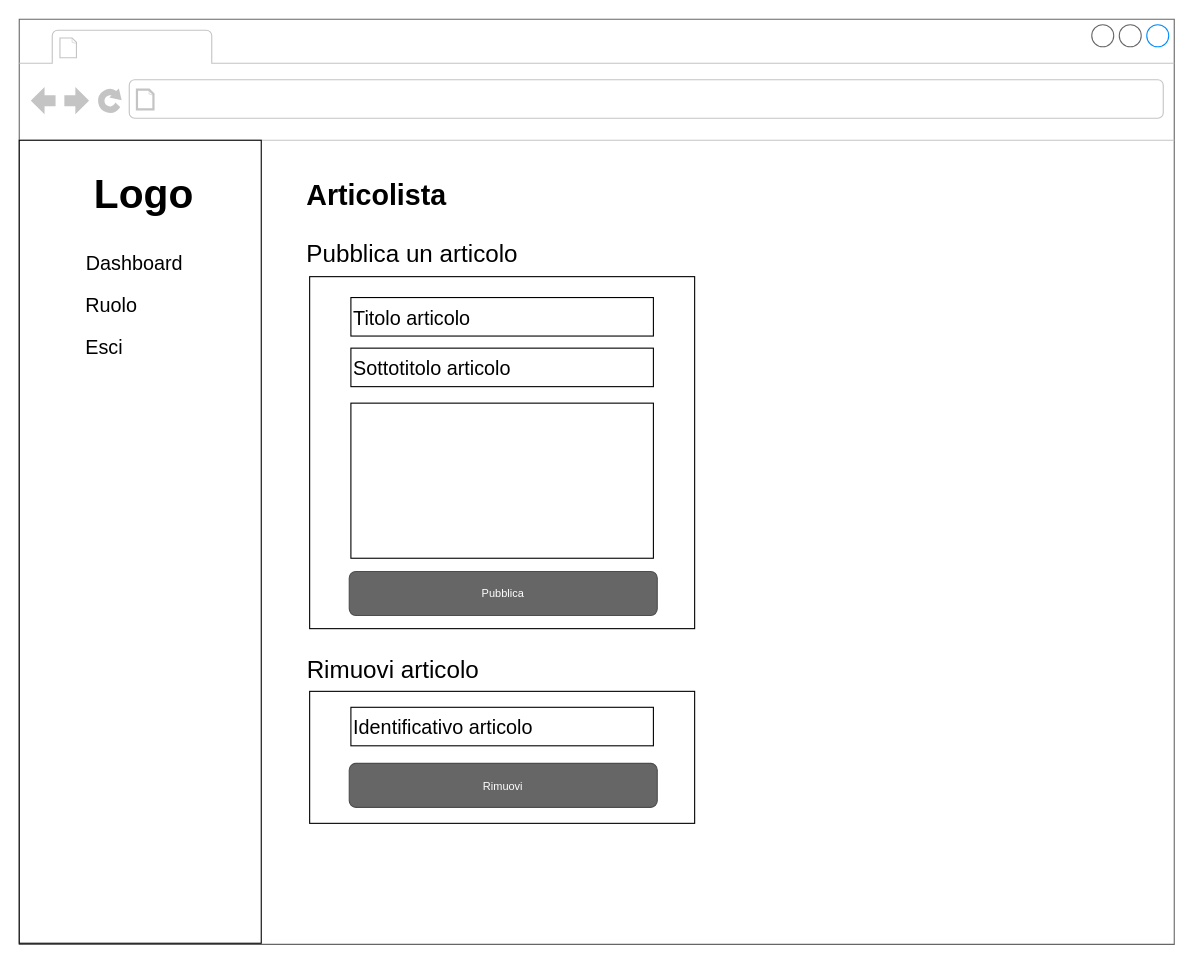
Some shapes in this 1194 by 964 pixel diagram are drawn without their labels. The centre of each missing label's shape, as x and y in pixels:
"Contenuto articolo" belongs at [501,480].
"https://www.default.com" belongs at [299,99].
"Page 1" belongs at [145,46].
